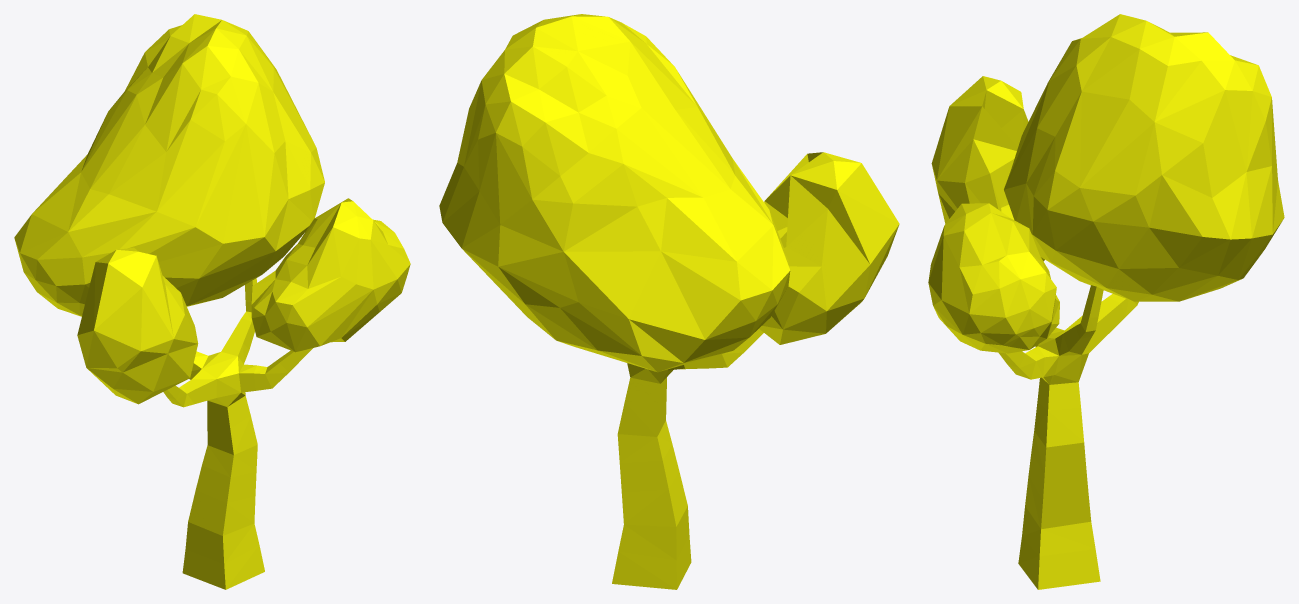
File: tree01.glb
3 renders of one model, left to right at view 1: azimuth 30°, elevation 25°; view 2: azimuth 150°, elevation 25°; view 3: azimuth 270°, elevation 25°, orthographic. The views are drawn at different scales.
Visible parts, largest first — view 1: tree01; view 2: tree01; view 3: tree01.
Part boxes in pixels (x1,y1,x2,y2): tree01: [14, 14, 410, 589]; tree01: [439, 14, 899, 589]; tree01: [928, 14, 1284, 589].
Size of the model in its own units: 5.66 by 8.43 by 4.78.
1 material, 1 textured.
